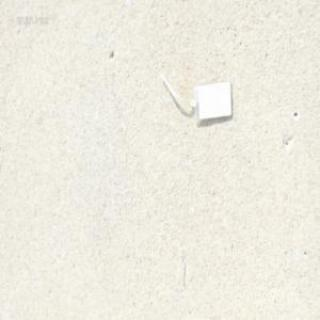LuggageTagtrack_idkeyframe: (158, 63, 234, 125)
